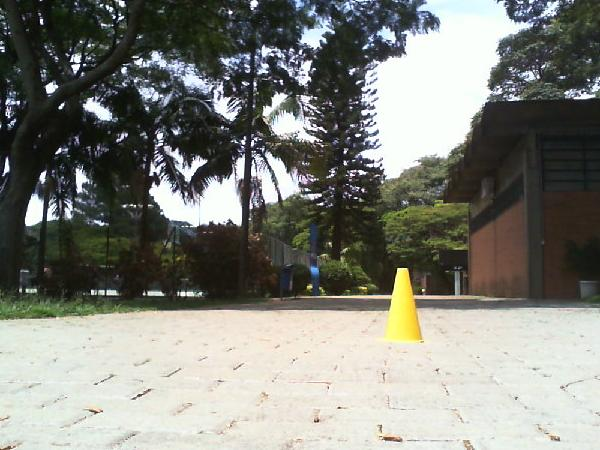0 cone: (381, 268, 424, 344)
